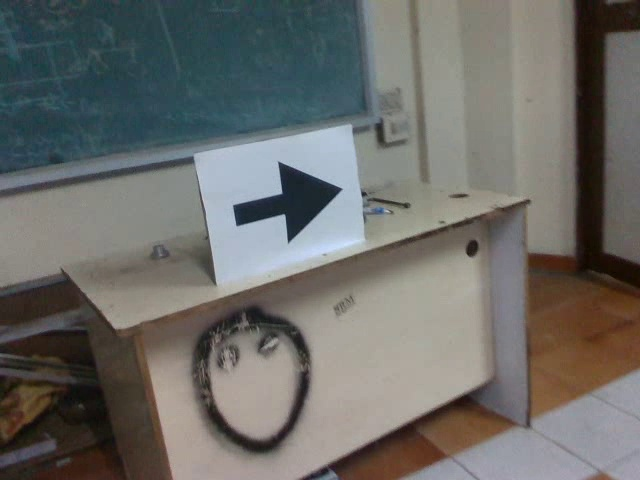Right: (227, 159, 345, 246)
